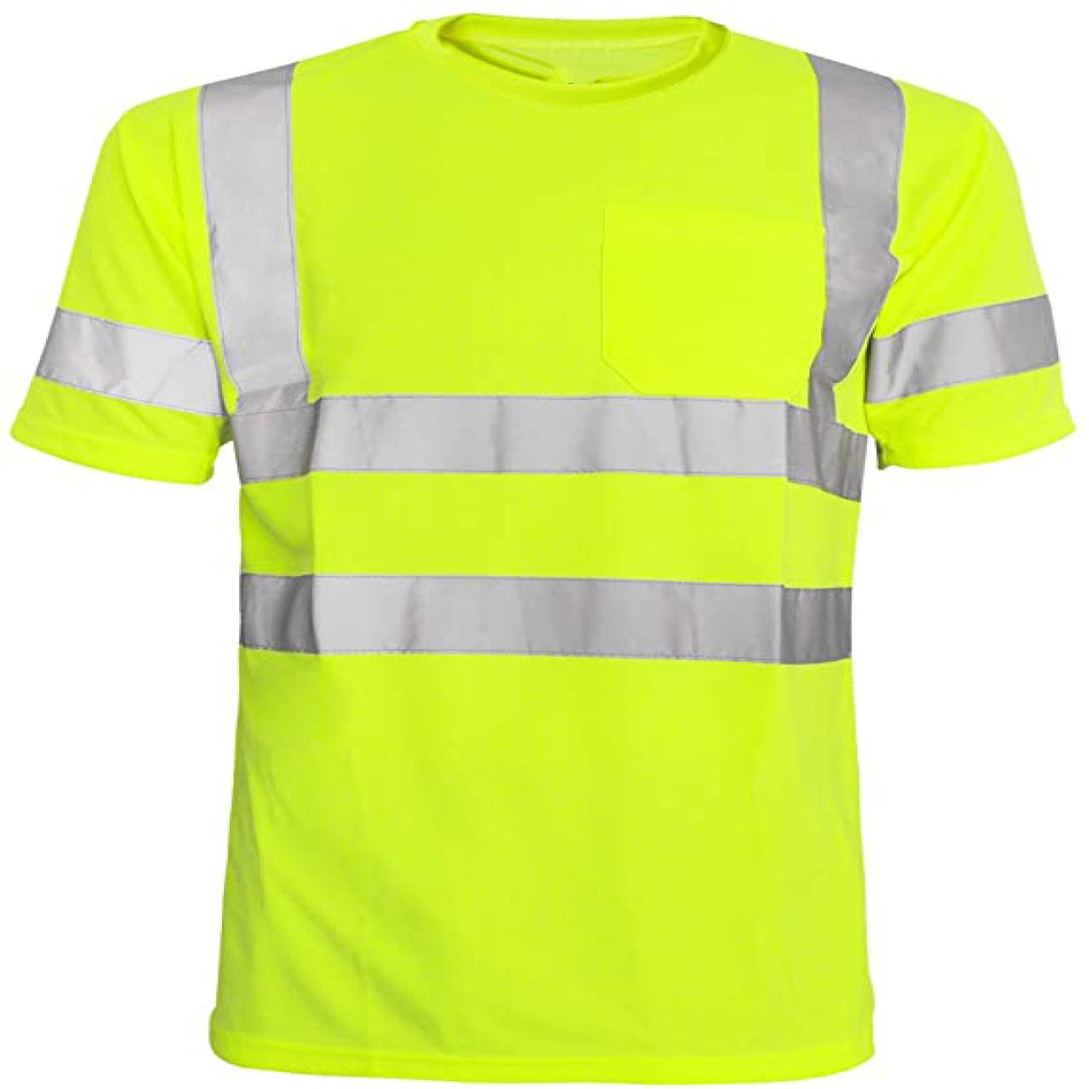NO_Safety_Vest: (8, 3, 1082, 1082)
